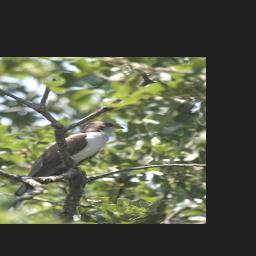Cuckoo: (0, 120, 126, 211)
